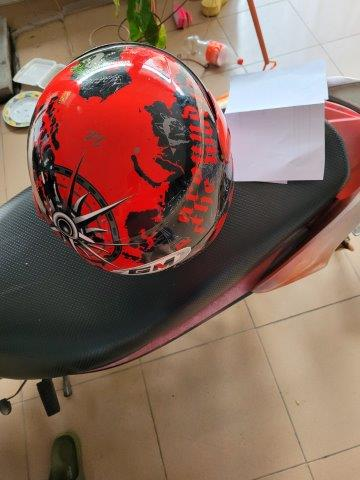botolplastik: (182, 35, 242, 67)
kertas: (226, 60, 329, 184)
